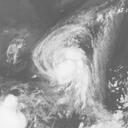cyclone: (33, 24, 94, 86)
